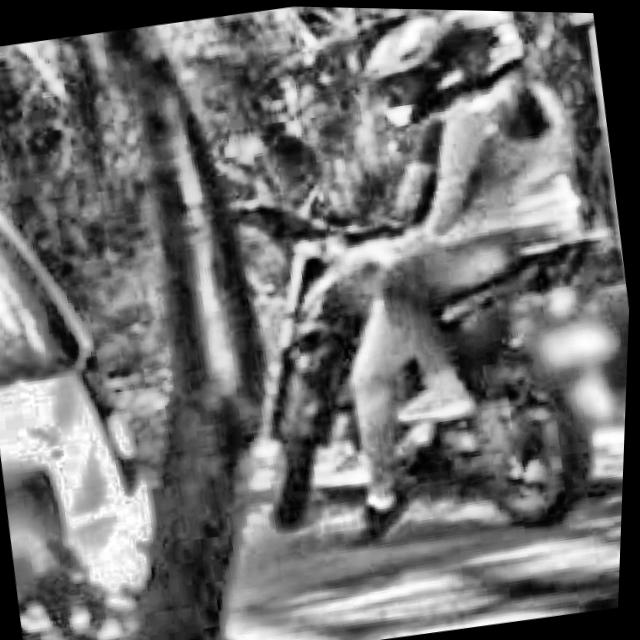motorcycle: (165, 47, 639, 572)
